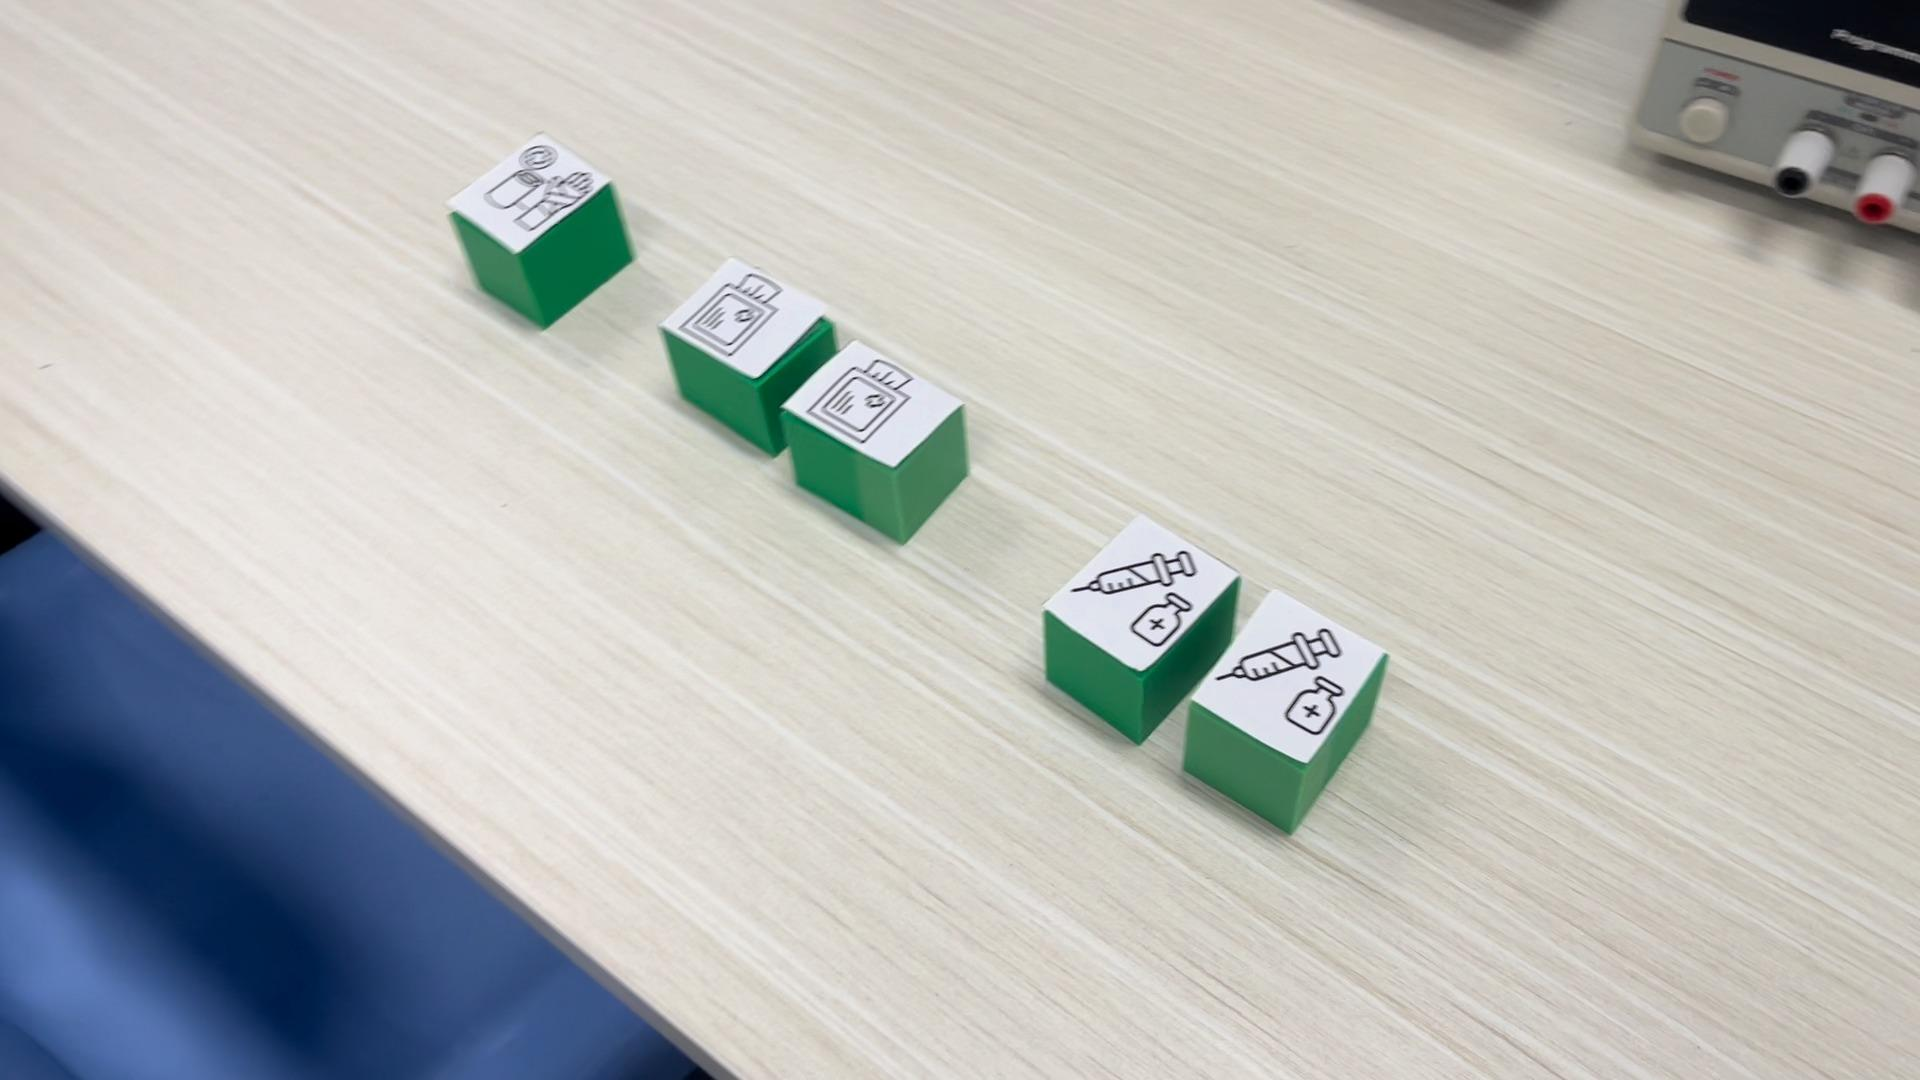Bandages: (443, 131, 636, 328)
Gauze: (779, 338, 971, 547), (657, 255, 832, 381)
antiseptic cream: (1188, 588, 1390, 832), (1036, 513, 1244, 745)
